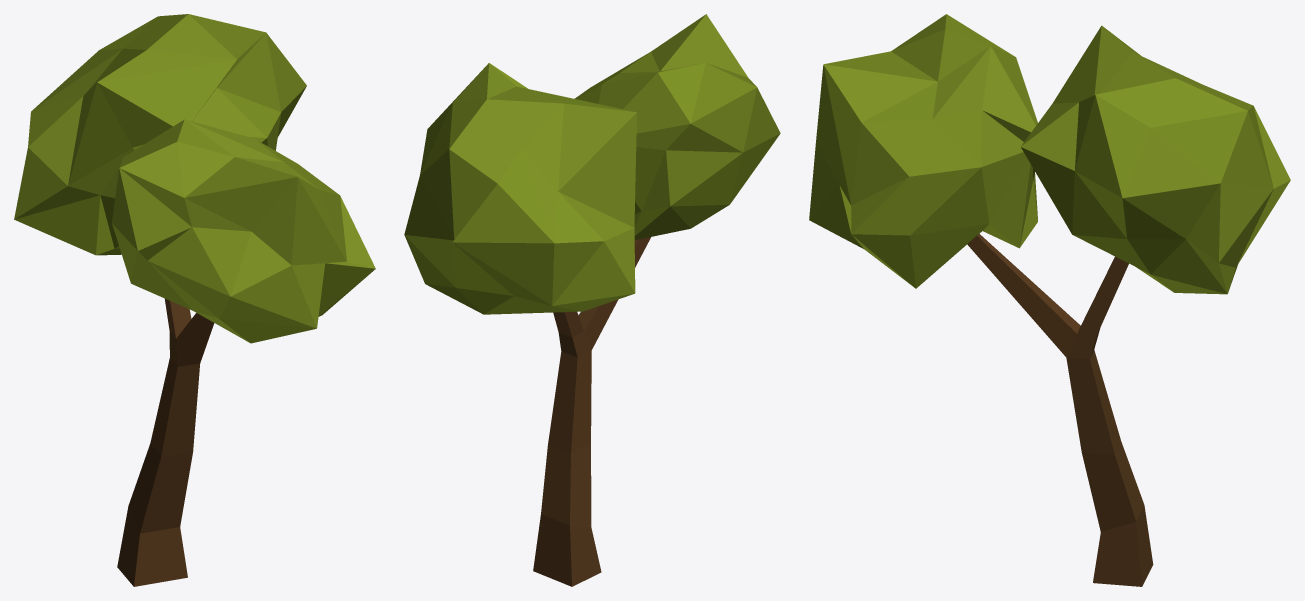
Rendered from Summer_tree_2.fbx.
3 views of the same model, side by side, from view 1: azimuth 30°, elevation 25°; view 2: azimuth 150°, elevation 25°; view 3: azimuth 270°, elevation 25° (orthographic). The views are drawn at different scales.
Parts seen in each view (by area): view 1: Tree 1, Object034; view 2: Tree 1, Object034; view 3: Tree 1, Object034.
Part boxes in pixels (x1,y1,x2,y2): Tree 1: (14,14,375,343); Object034: (117,298,214,586); Tree 1: (404,14,780,314); Object034: (533,237,650,586); Tree 1: (809,14,1290,294); Object034: (967,234,1153,586).
Bounding box in the file's own units: 113 × 204 × 169.
